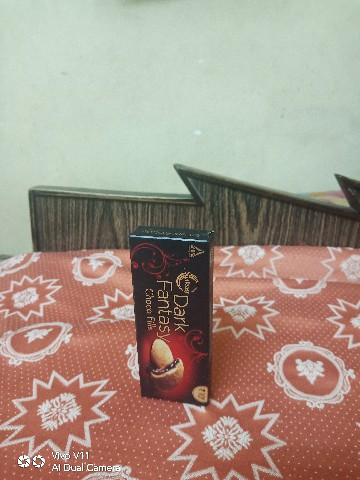darkfantasy small: (123, 217, 226, 423)
